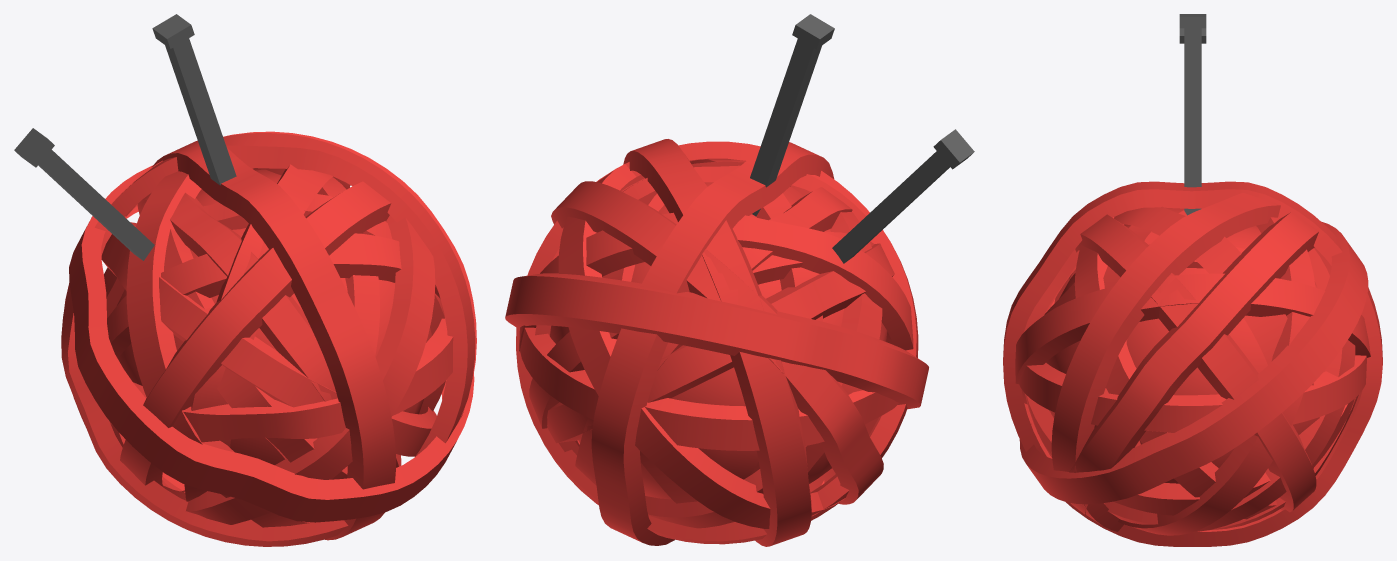
The model's file is yarn.glb.
3 renders of one model, left to right at view 1: azimuth 30°, elevation 25°; view 2: azimuth 150°, elevation 25°; view 3: azimuth 270°, elevation 25°, orthographic. The views are drawn at different scales.
Visible parts, largest first — view 1: Sphere.354, Cube.6103, Cube.6104; view 2: Sphere.354, Cube.6103, Cube.6104; view 3: Sphere.354, Cube.6103.
Part boxes in pixels (x1,y1,x2,y2): Sphere.354: [61, 131, 476, 546]; Cube.6103: [152, 14, 236, 185]; Cube.6104: [14, 128, 154, 260]; Sphere.354: [505, 139, 928, 546]; Cube.6103: [750, 14, 834, 216]; Cube.6104: [832, 129, 974, 263]; Sphere.354: [1003, 181, 1382, 546]; Cube.6103: [1179, 14, 1206, 215].
Bounding box in the file's own units: 2 × 2.35 × 1.71.
1 material, 1 textured.
